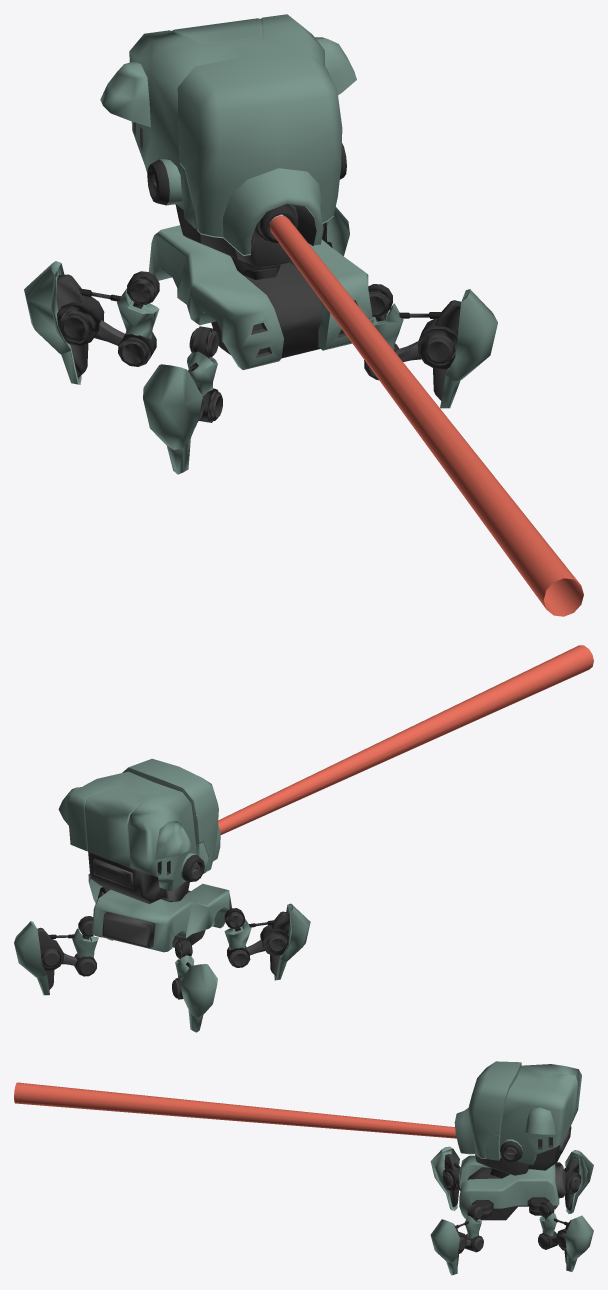
File: 4legMech-1.fbx
3 renders of one model, top to bottom at view 1: azimuth 30°, elevation 25°; view 2: azimuth 150°, elevation 25°; view 3: azimuth 270°, elevation 25°, orthographic. The views are drawn at different scales.
Parts seen in each view (by area): view 1: Cube.004, Cube, Cylinder, Cube.001, Cube.003, Cube.006; view 2: Cube, Cylinder, Cube.001, Cube.006, Cube.003, Cube.004; view 3: Cube, Cylinder, Cube.001, Cube.004, Cube.006, Cube.003.
Boxes of the visible parts, left/top/right/bottom form: Cube.004: left=177, top=51, right=342, bottom=254; Cube: left=100, top=14, right=356, bottom=279; Cylinder: left=269, top=215, right=583, bottom=616; Cube.001: left=148, top=225, right=372, bottom=369; Cube.003: left=143, top=284, right=497, bottom=474; Cube.006: left=24, top=207, right=349, bottom=384; Cube: left=58, top=768, right=217, bottom=904; Cylinder: left=218, top=645, right=593, bottom=834; Cube.001: left=92, top=883, right=231, bottom=952; Cube.006: left=14, top=916, right=217, bottom=1032; Cube.003: left=88, top=873, right=310, bottom=980; Cube.004: left=122, top=758, right=220, bottom=870; Cube: left=461, top=1063, right=581, bottom=1178; Cylinder: left=14, top=1082, right=456, bottom=1138; Cube.001: left=459, top=1155, right=565, bottom=1220; Cube.004: left=454, top=1061, right=521, bottom=1158; Cube.006: left=538, top=1150, right=593, bottom=1271; Cube.003: left=430, top=1146, right=483, bottom=1275.
Size of the model in its own units: 311 by 266 by 825.
